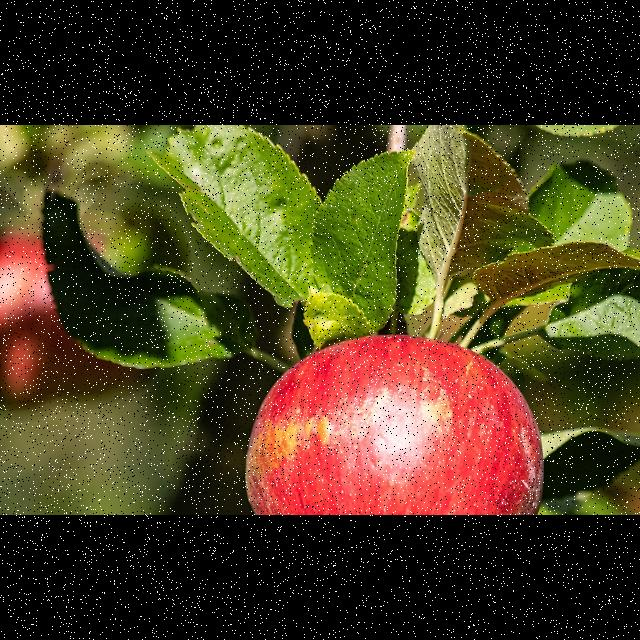Apel Segar: (233, 326, 581, 516)
